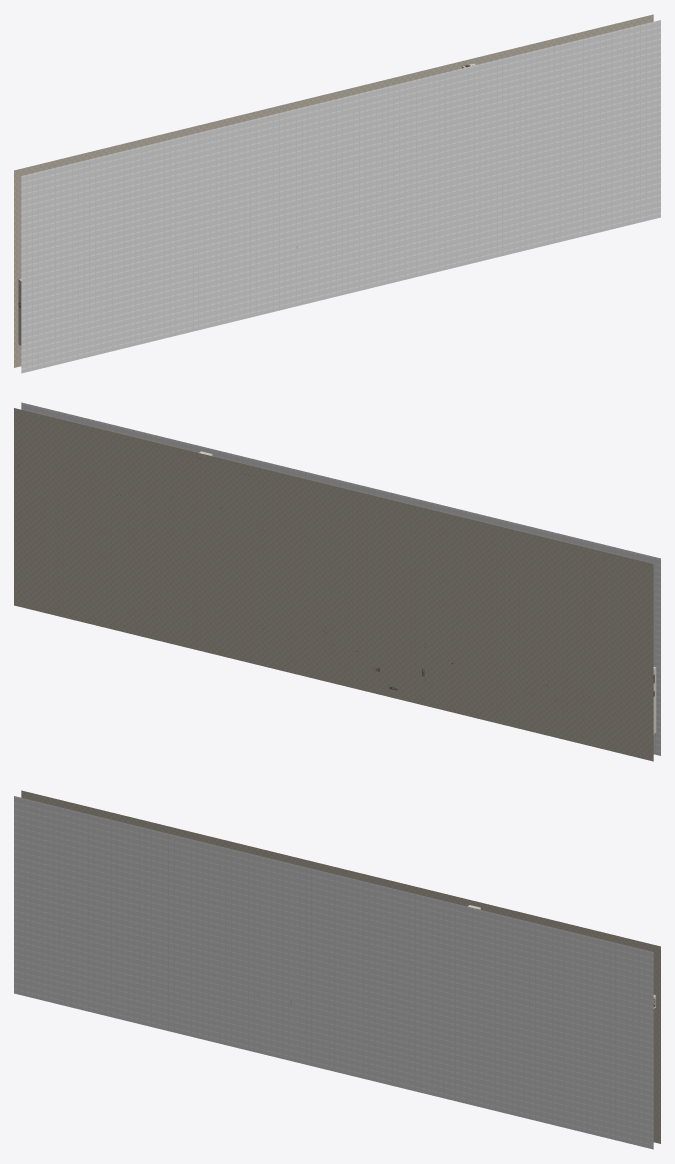
3 renders of one model, top to bottom at view 1: azimuth 30°, elevation 25°; view 2: azimuth 150°, elevation 25°; view 3: azimuth 330°, elevation 25°, orthographic.
Parts seen in each view (by area): view 1: ceiling, floor; view 2: floor, ceiling; view 3: ceiling, floor.
Part boxes in pixels (bbox=[...]): ceiling: bbox=[21, 20, 660, 373]; floor: bbox=[14, 14, 653, 367]; floor: bbox=[14, 408, 653, 761]; ceiling: bbox=[21, 402, 660, 755]; ceiling: bbox=[14, 796, 653, 1149]; floor: bbox=[21, 790, 660, 1143].
Size of the model in its own units: 134 by 39.5 by 2.7.
Materials: 24 (10 with a texture image).
